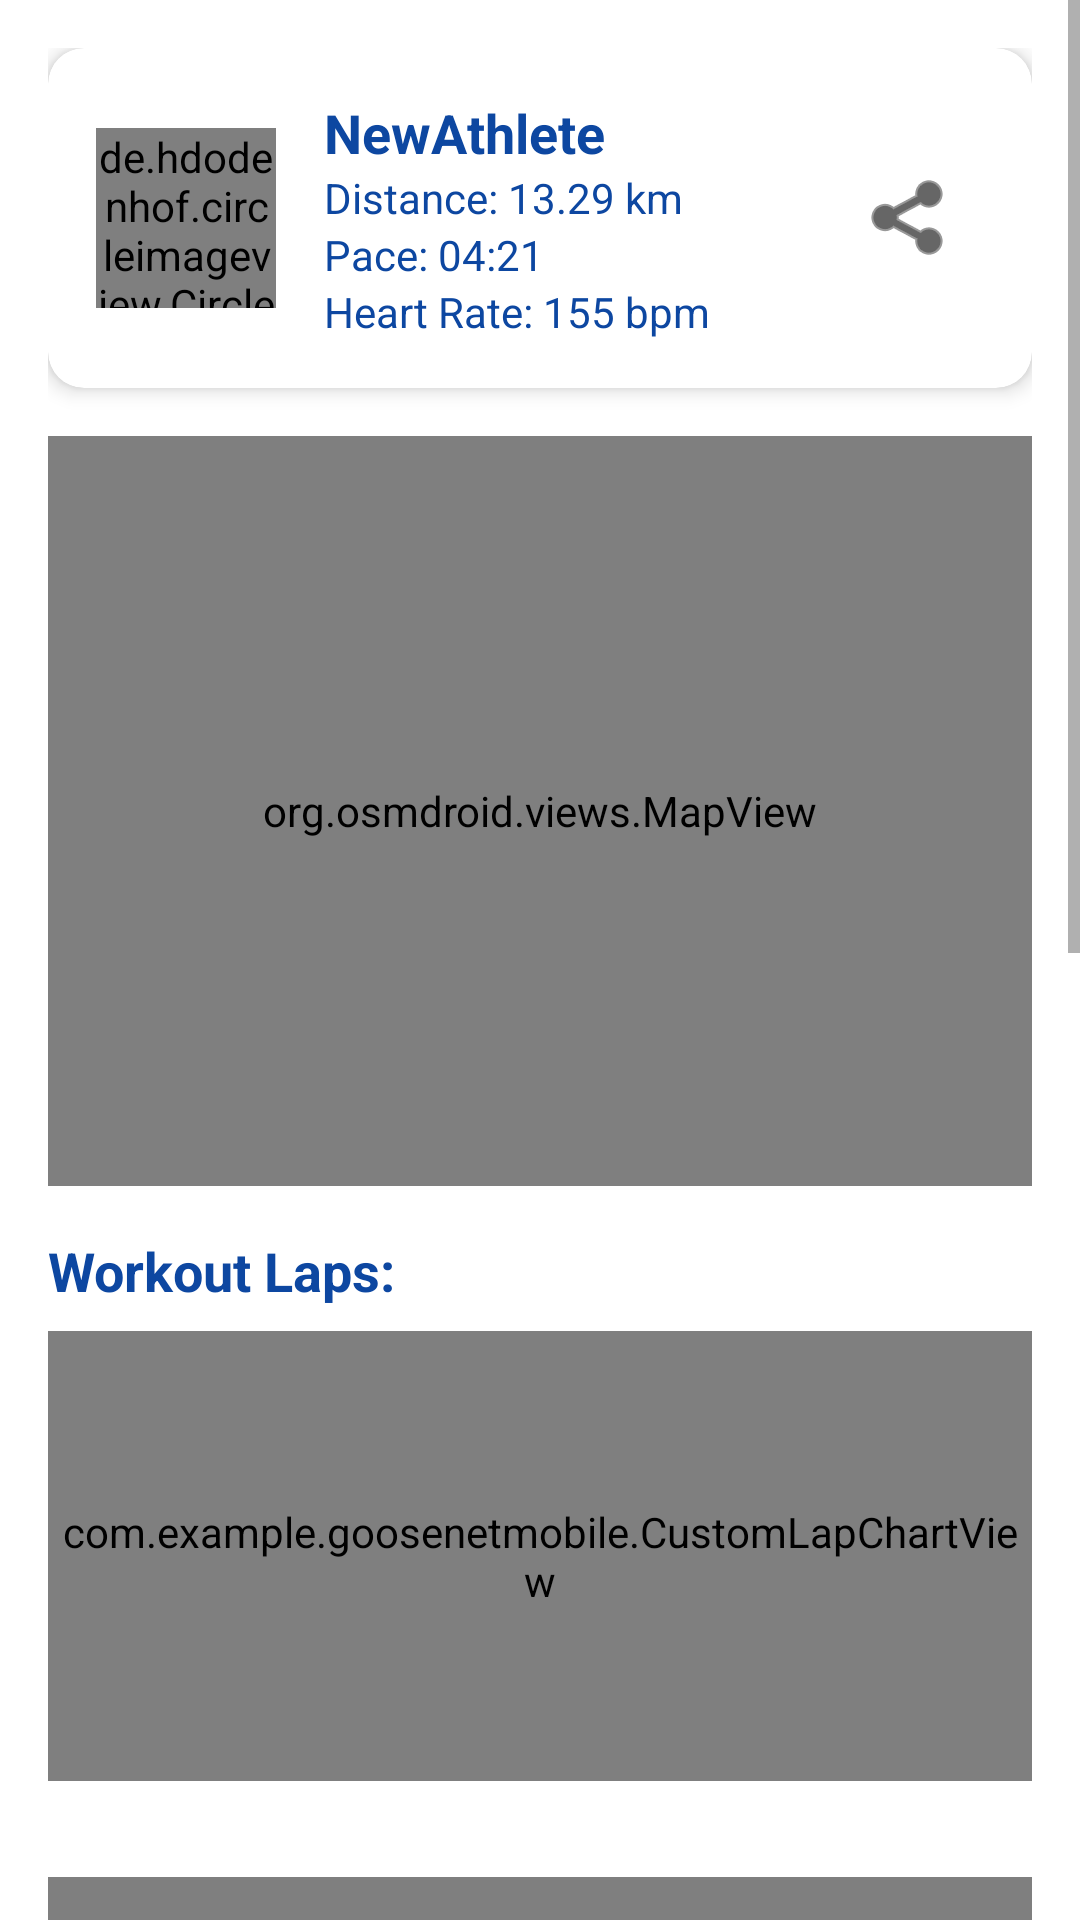

Icons on this 1080×1920 Android screen, each with the point to tap as (x,y):
Share: (907,217)
